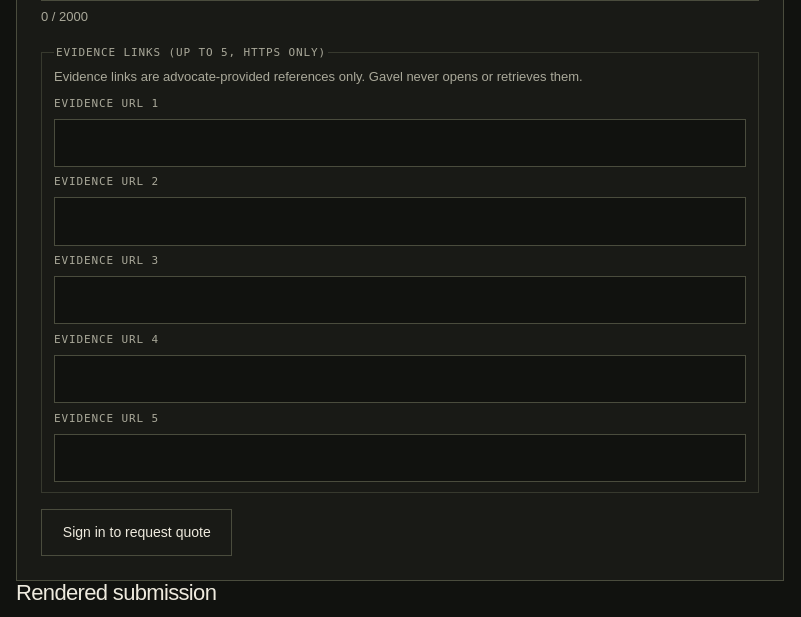
Test: SubmissionComposer payer sign-in (staging regression) › Sign in requests a WalletSession challenge for role base_sender and the connected wallet, signed by that wallet
The width and height of the screenshot is (801, 617).
(page scrolled)
Click the button "Sign in to request quote" at (137, 532), box [41,509,232,556]
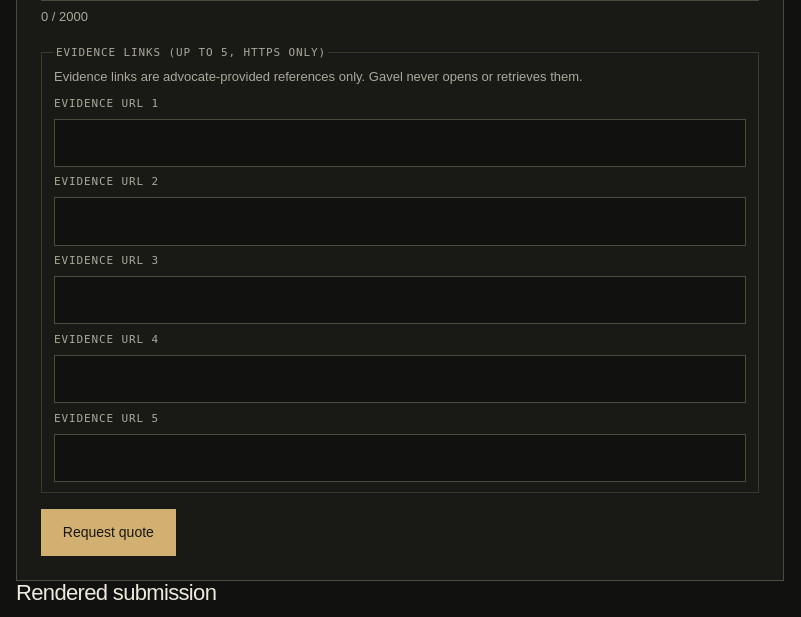
Now the button "Request quote" is shown, box [41,509,176,556]
